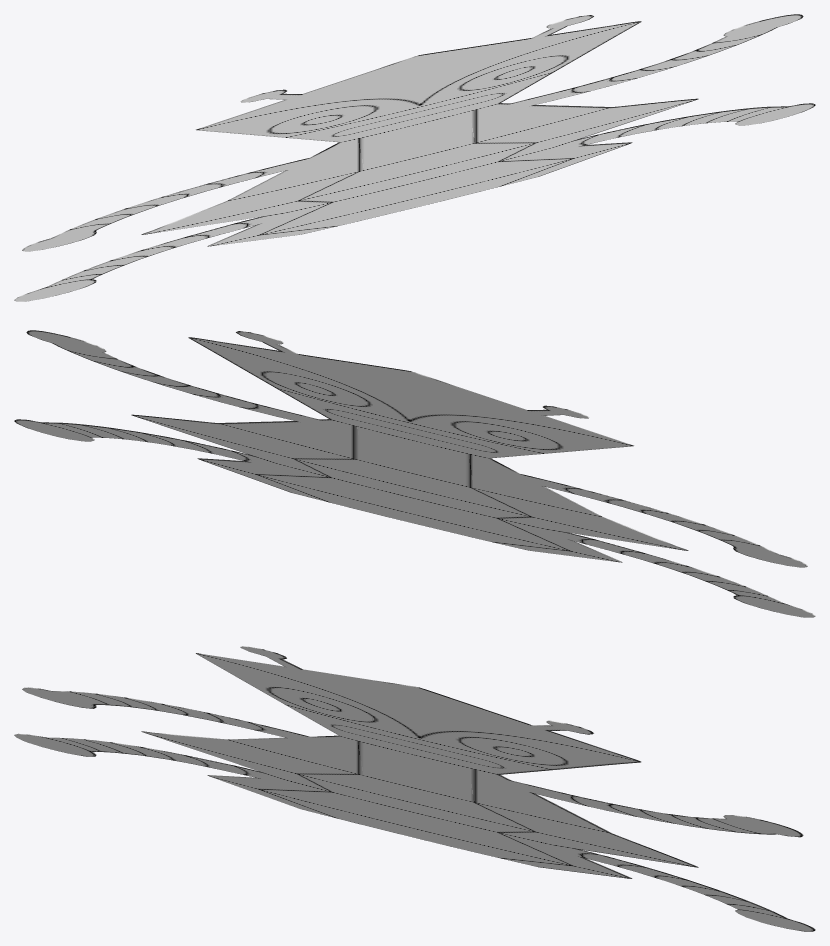
Rendered from 1_muddle.fbx.
3 views of the same model, one above another, from view 1: azimuth 30°, elevation 25°; view 2: azimuth 150°, elevation 25°; view 3: azimuth 330°, elevation 25° (orthographic).
Visible parts, largest first — view 1: planarTrimmedSurface1; view 2: planarTrimmedSurface1; view 3: planarTrimmedSurface1.
Part boxes in pixels (<box>): planarTrimmedSurface1: <box>14,14,815,301</box>; planarTrimmedSurface1: <box>14,330,815,617</box>; planarTrimmedSurface1: <box>14,646,815,931</box>.
Bounding box in the file's own units: 21.39 × 3.86 × 0.0326.
Materials: 1 (1 with a texture image).
